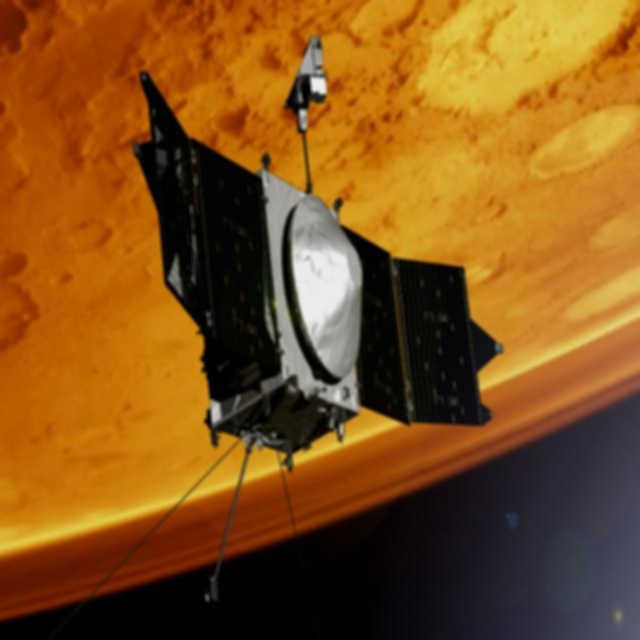satellite: (127, 18, 497, 552)
